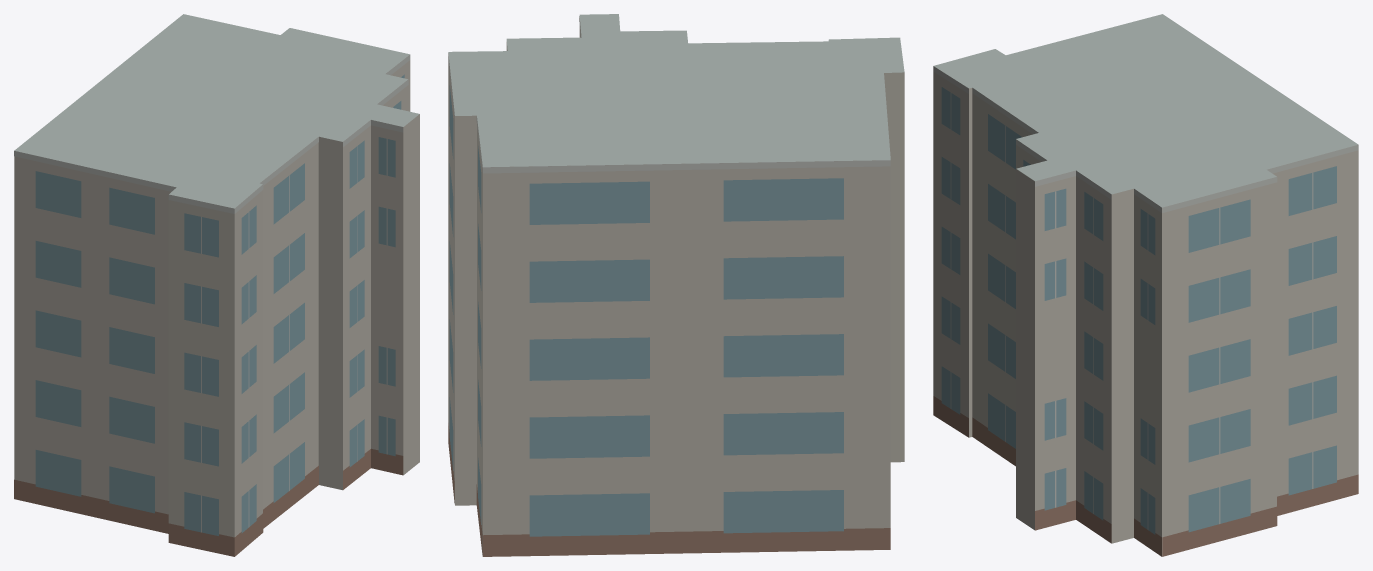
File: survey-upis-32731086.glb
The picture shows the model from 3 angles, left to right: view 1: azimuth 30°, elevation 25°; view 2: azimuth 150°, elevation 25°; view 3: azimuth 270°, elevation 25°; orthographic projection. The views are drawn at different scales.
Parts seen in each view (by area): view 1: survey-upis-32731086.tmp; view 2: survey-upis-32731086.tmp; view 3: survey-upis-32731086.tmp.
Part boxes in pixels (x1,y1,x2,y2): survey-upis-32731086.tmp: [14, 14, 419, 556]; survey-upis-32731086.tmp: [448, 14, 904, 556]; survey-upis-32731086.tmp: [933, 14, 1358, 556].
Bounding box in the file's own units: 18.21 × 15.3 × 16.9.
